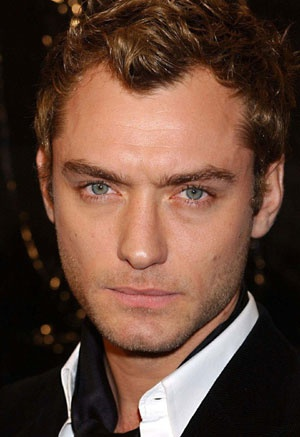bad: (56, 139, 242, 325)
